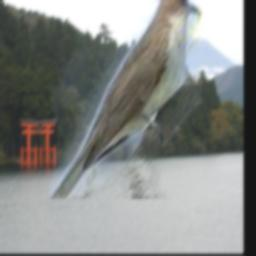Cuckoo: (49, 0, 202, 200)
